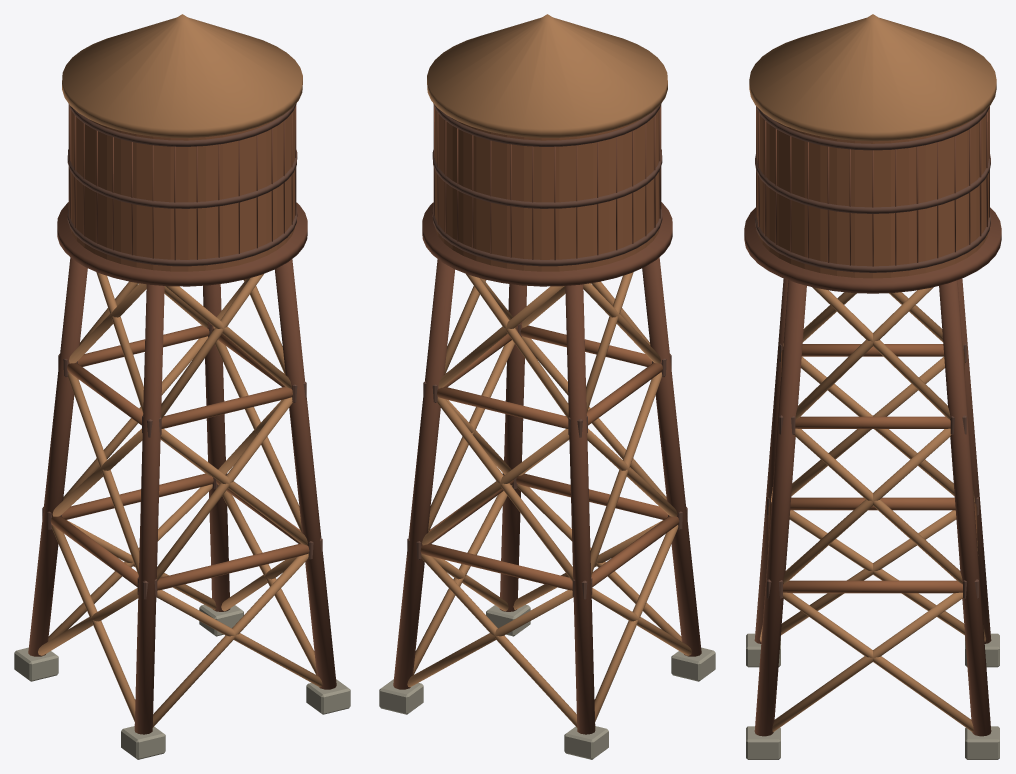
The model's file is alc_watertower.glb.
3 renders of one model, left to right at view 1: azimuth 30°, elevation 25°; view 2: azimuth 150°, elevation 25°; view 3: azimuth 270°, elevation 25°, orthographic. The views are drawn at different scales.
Visible parts, largest first — view 1: alc_watertower; view 2: alc_watertower; view 3: alc_watertower.
Boxes of the visible parts, x1=… form: alc_watertower: x1=14, y1=14, x2=350, y2=759; alc_watertower: x1=379, y1=14, x2=715, y2=759; alc_watertower: x1=744, y1=14, x2=1001, y2=759.
Bounding box in the file's own units: 4.04 × 12 × 4.04.
